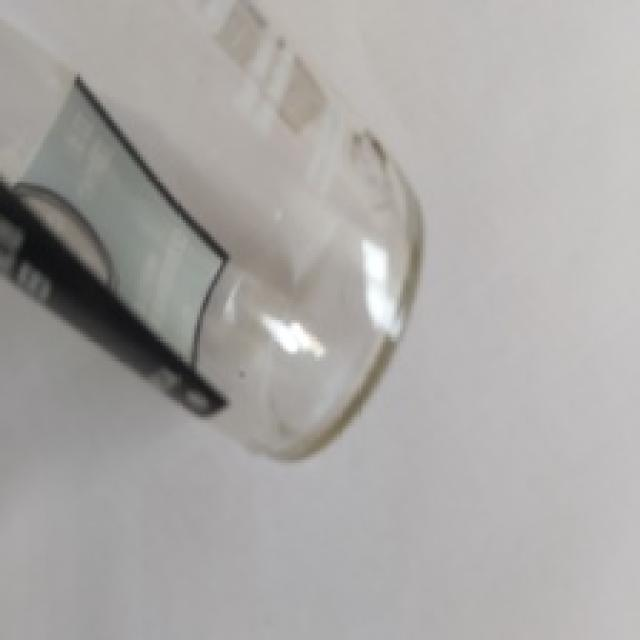Glass: (0, 0, 428, 463)
